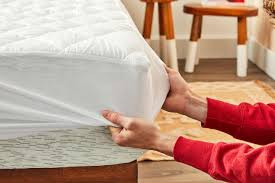bed-matress: (1, 1, 161, 128)
